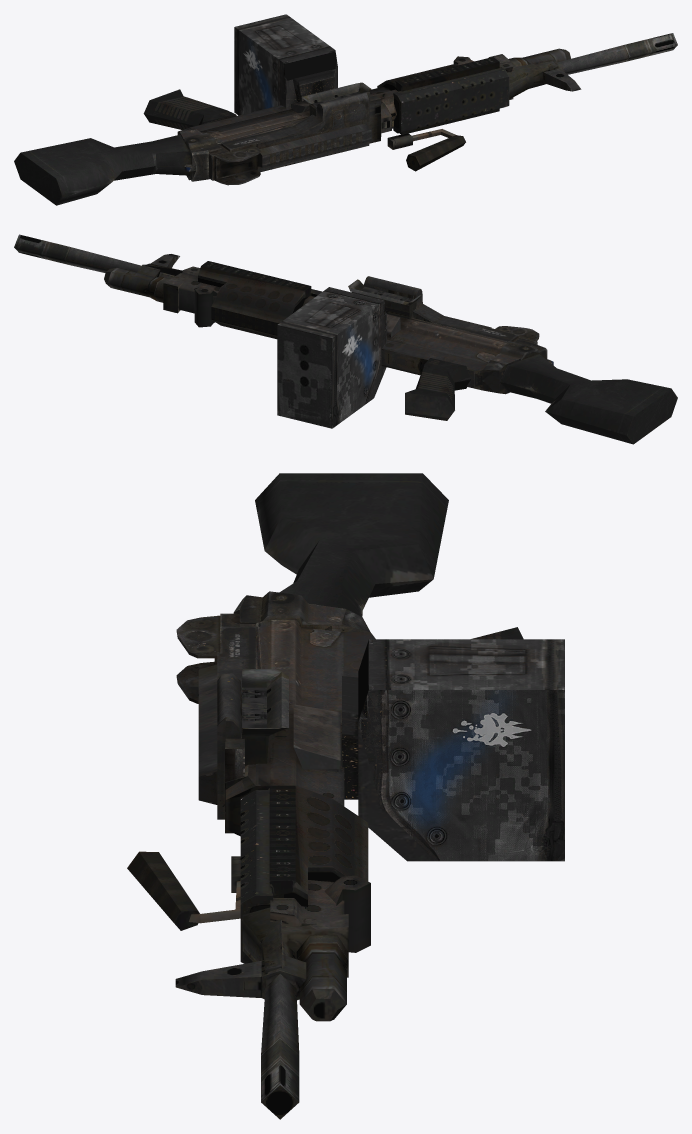
File: t6_wpn_lmg_mk48_world_LOD1.obj
3 renders of one model, top to bottom at view 1: azimuth 30°, elevation 25°; view 2: azimuth 150°, elevation 25°; view 3: azimuth 270°, elevation 25°, orthographic. The views are drawn at different scales.
Visible parts, largest first — view 1: mtl_t6_wpn_lmg_mk48_camo2, mtl_t6_wpn_lmg_mk48_camo1, mtl_t6_wpn_lmg_mk48_camo4, mtl_t6_wpn_lmg_mk48_camo2_detail, mtl_t6_wpn_lmg_mk48_ammo_camo1, mtl_t6_wpn_lmg_mk48_ammo_camo2, mtl_t6_wpn_lmg_mk48_camo3; view 2: mtl_t6_wpn_lmg_mk48_camo1, mtl_t6_wpn_lmg_mk48_ammo_camo1, mtl_t6_wpn_lmg_mk48_camo2_detail, mtl_t6_wpn_lmg_mk48_camo2, mtl_t6_wpn_lmg_mk48_camo4, mtl_t6_wpn_lmg_mk48_camo3; view 3: mtl_t6_wpn_lmg_mk48_ammo_camo1, mtl_t6_wpn_lmg_mk48_camo1, mtl_t6_wpn_lmg_mk48_camo2_detail, mtl_t6_wpn_lmg_mk48_camo2, mtl_t6_wpn_lmg_mk48_camo4, mtl_t6_wpn_lmg_mk48_camo3, mtl_t6_wpn_lmg_mk48_ammo_camo2.
Part boxes in pixels (bbox=[...]): mtl_t6_wpn_lmg_mk48_camo2: bbox=[143, 82, 456, 185]; mtl_t6_wpn_lmg_mk48_camo1: bbox=[177, 45, 629, 181]; mtl_t6_wpn_lmg_mk48_camo4: bbox=[178, 33, 677, 181]; mtl_t6_wpn_lmg_mk48_camo2_detail: bbox=[14, 134, 190, 205]; mtl_t6_wpn_lmg_mk48_ammo_camo1: bbox=[234, 14, 334, 115]; mtl_t6_wpn_lmg_mk48_ammo_camo2: bbox=[283, 50, 337, 107]; mtl_t6_wpn_lmg_mk48_camo3: bbox=[222, 103, 465, 170]; mtl_t6_wpn_lmg_mk48_camo1: bbox=[65, 247, 553, 394]; mtl_t6_wpn_lmg_mk48_ammo_camo1: bbox=[277, 287, 386, 428]; mtl_t6_wpn_lmg_mk48_camo2_detail: bbox=[499, 353, 677, 444]; mtl_t6_wpn_lmg_mk48_camo2: bbox=[348, 276, 539, 420]; mtl_t6_wpn_lmg_mk48_camo4: bbox=[14, 234, 553, 393]; mtl_t6_wpn_lmg_mk48_camo3: bbox=[413, 289, 518, 341]; mtl_t6_wpn_lmg_mk48_ammo_camo1: bbox=[358, 639, 564, 861]; mtl_t6_wpn_lmg_mk48_camo1: bbox=[175, 610, 375, 1119]; mtl_t6_wpn_lmg_mk48_camo2_detail: bbox=[255, 473, 448, 616]; mtl_t6_wpn_lmg_mk48_camo2: bbox=[173, 613, 523, 930]; mtl_t6_wpn_lmg_mk48_camo4: bbox=[234, 591, 370, 1101]; mtl_t6_wpn_lmg_mk48_camo3: bbox=[127, 626, 255, 921]; mtl_t6_wpn_lmg_mk48_ammo_camo2: bbox=[342, 640, 368, 799].
Size of the model in its own units: 97.27 by 12.89 by 29.9.
